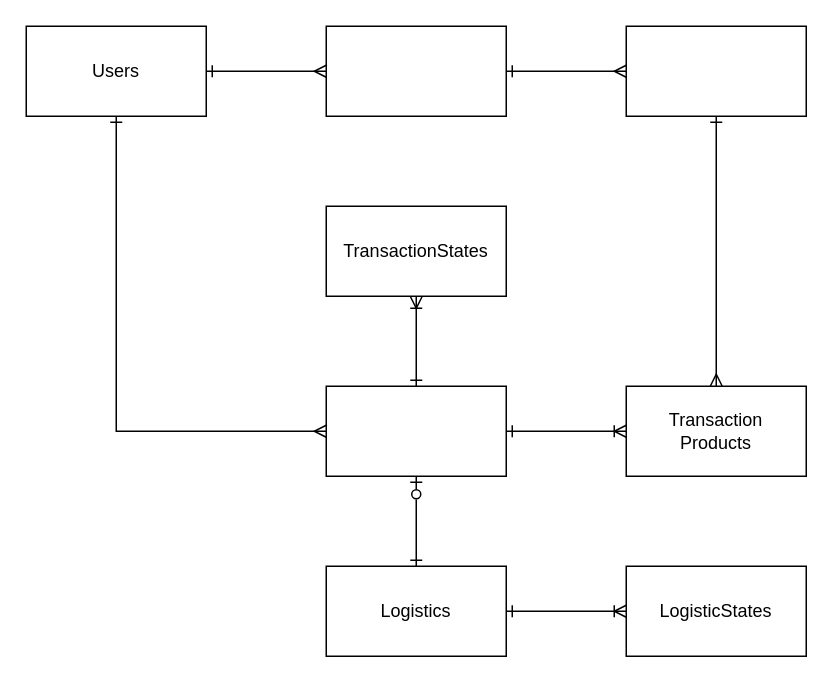
Some shapes in this 833 by 683 pixel diagram are drawn without their labels. Here are the shapes that lost their labels. From the top down, the box of each, then its label:
(325, 25, 506, 116): Shops
(625, 25, 806, 116): Products
(325, 385, 506, 476): Transactions
